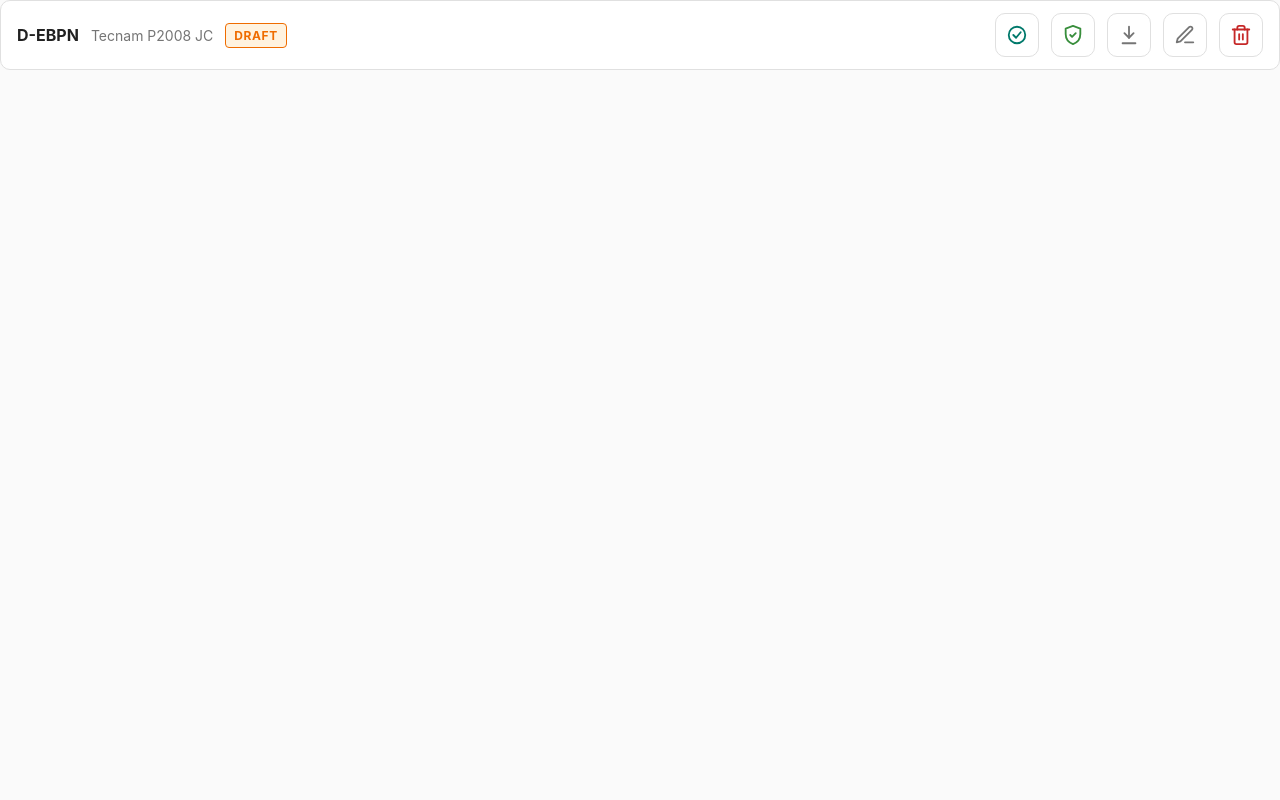
Test: FleetList — delete confirmation + undo › deletes and shows an undo toast when the confirmation is accepted
Click the button with class "btn-danger". click: (1241, 35)
box: x1=1219 y1=13 x2=1263 y2=57
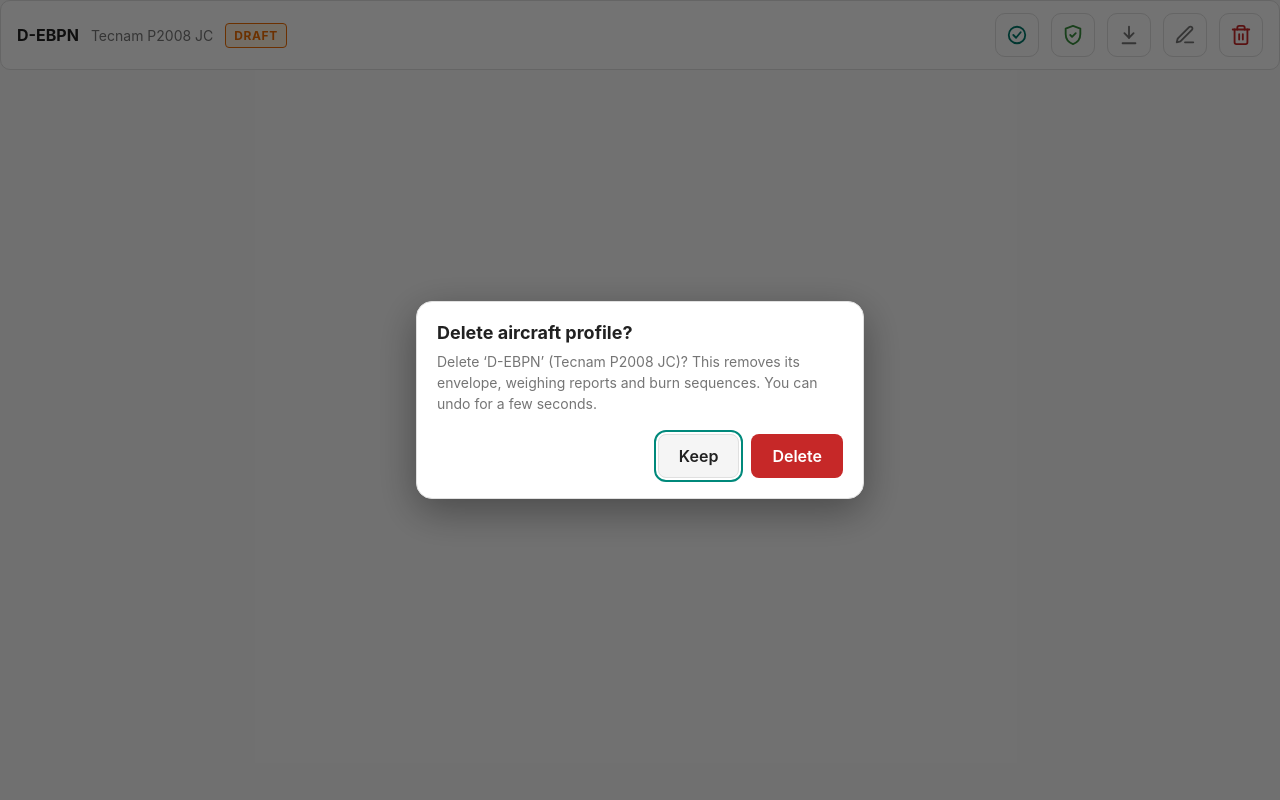
Click the button with class "confirm-dialog__btn--danger". click: (797, 456)
box: x1=751 y1=434 x2=843 y2=478
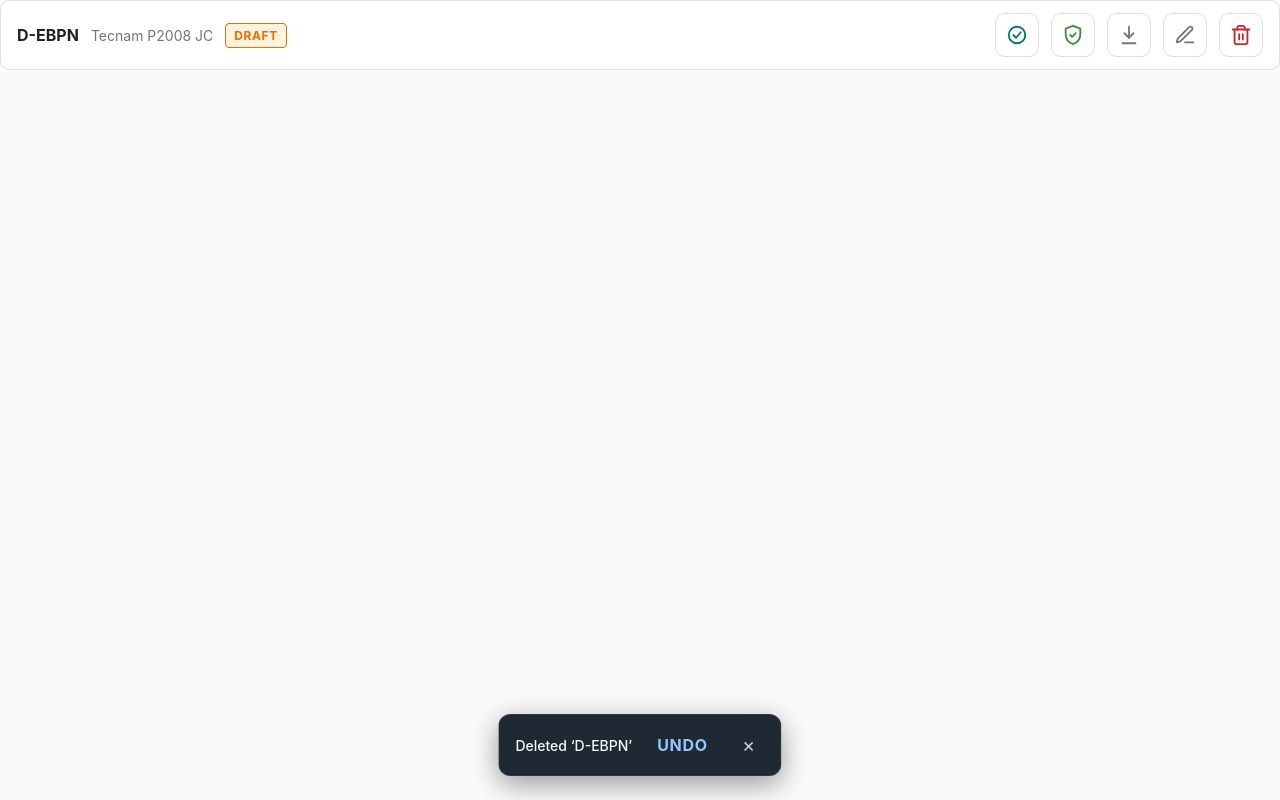
Check: the message "Deleted ‘D-EBPN’ Undo ×" is shown, box x1=498 y1=714 x2=782 y2=776
Check: the message with class "undo-toast" shows "D-EBPN", box x1=515 y1=736 x2=632 y2=754
